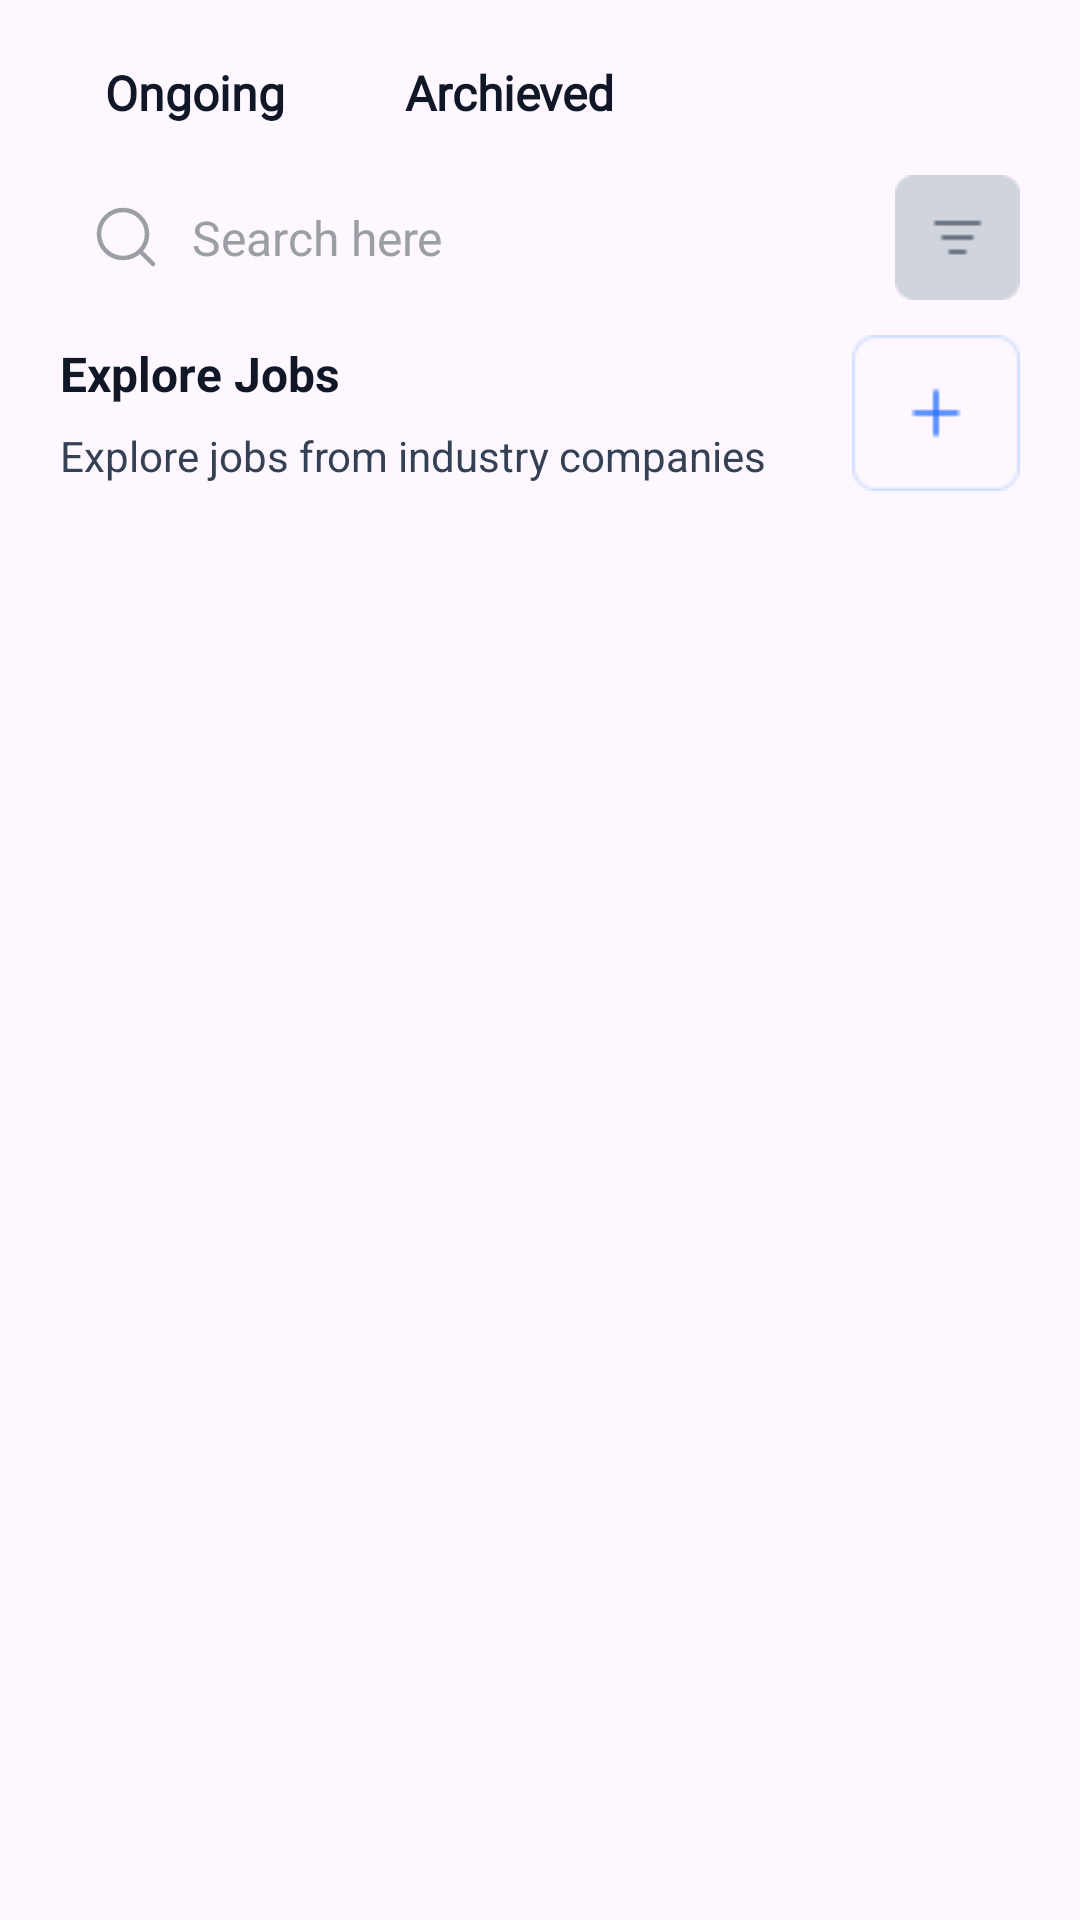

Screen size 1080w x 1920h. Icon name, then its box in pixels as [x1, y1, x2, y2]:
add job: [852, 335, 1020, 491]
filter: [895, 175, 1020, 300]
